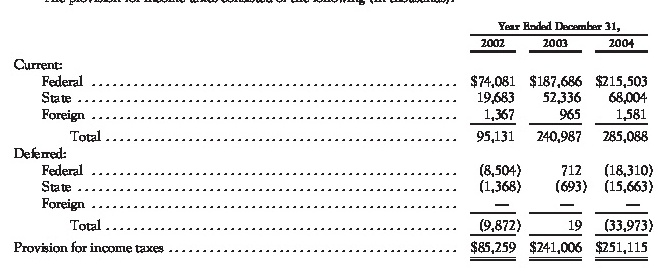table: (0, 0, 672, 273)
